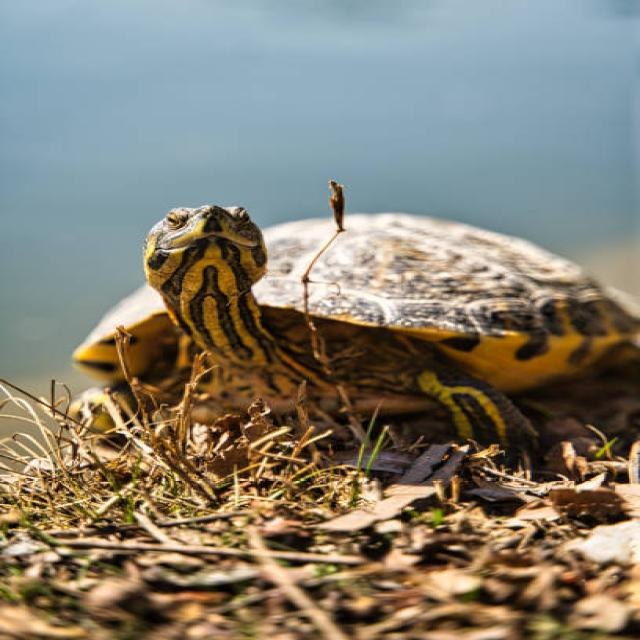terrapin: (249, 156, 640, 332), (140, 195, 298, 345), (369, 352, 544, 459), (44, 368, 184, 443)
